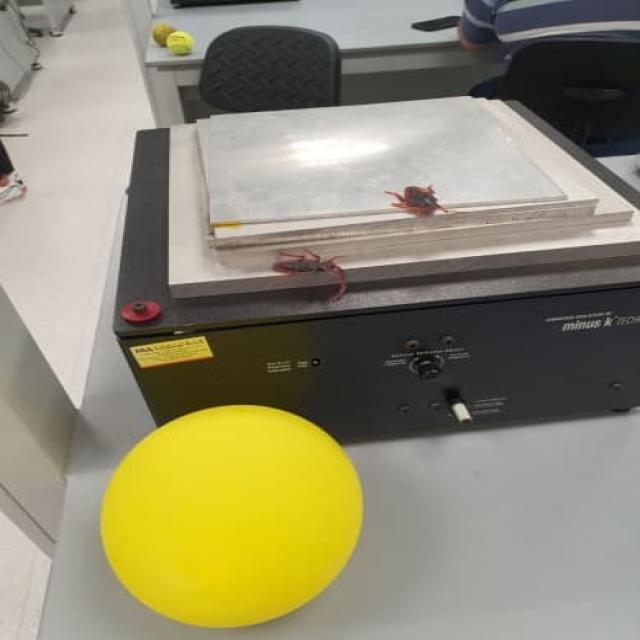Cockroach: (264, 242, 348, 290), (379, 175, 451, 219)
